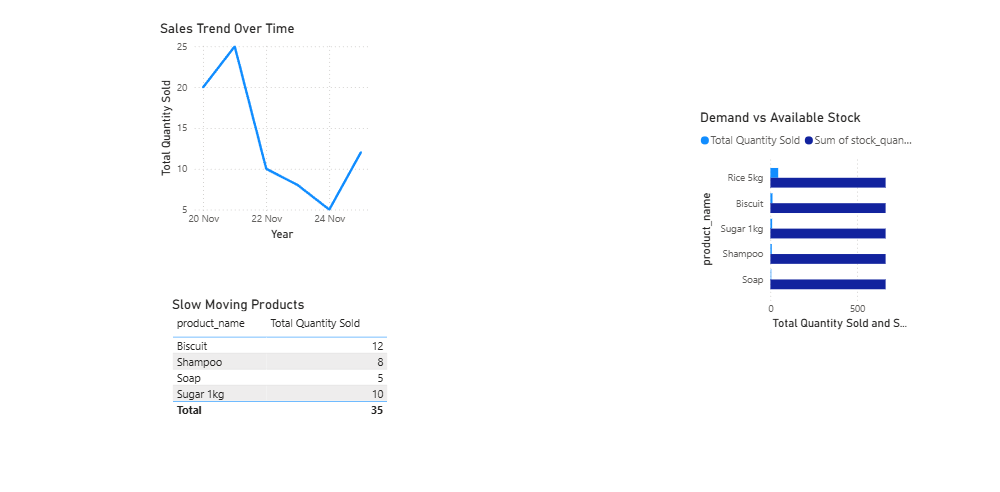

Layout of this report page (visuals, bound fields, positions):
{"tool":"powerbi","page":{"name":"Demand vs Supply","canvas":[1280,720],"ordinal":1},"visuals":[{"type":"lineChart","title":"Sales Trend Over Time","fields":{"Y":["sales.Total Quantity Sold"],"Category":["sales.sale_date.Variation.Date Hierarchy.Year","sales.sale_date.Variation.Date Hierarchy.Quarter","sales.sale_date.Variation.Date Hierarchy.Month","sales.sale_date.Variation.Date Hierarchy.Day"]},"box":[48.7,28.6,280.5,280.5],"z":0},{"type":"tableEx","title":"Slow Moving Products","fields":{"Values":["products.product_name","sales.Total Quantity Sold"]},"box":[48.7,391.4,280.5,280.5],"z":1},{"type":"clusteredBarChart","title":"Demand vs Available Stock","fields":{"Category":["products.product_name"],"Y":["sales.Total Quantity Sold","Sum(inventory.stock_quantity)"]},"box":[487.1,139.4,282.2,282.2],"z":2}]}

Visuals, with their boxes on the page's 1280x720 design canvas (x1, y1, x2, y2). These are canvas units, not pixel positions in the 1000x492 screenshot, which may show the page scaled, cropped or inside an application window:
"Sales Trend Over Time" lineChart: bbox=[49, 29, 329, 309]
"Slow Moving Products" tableEx: bbox=[49, 391, 329, 672]
"Demand vs Available Stock" clusteredBarChart: bbox=[487, 139, 769, 422]
